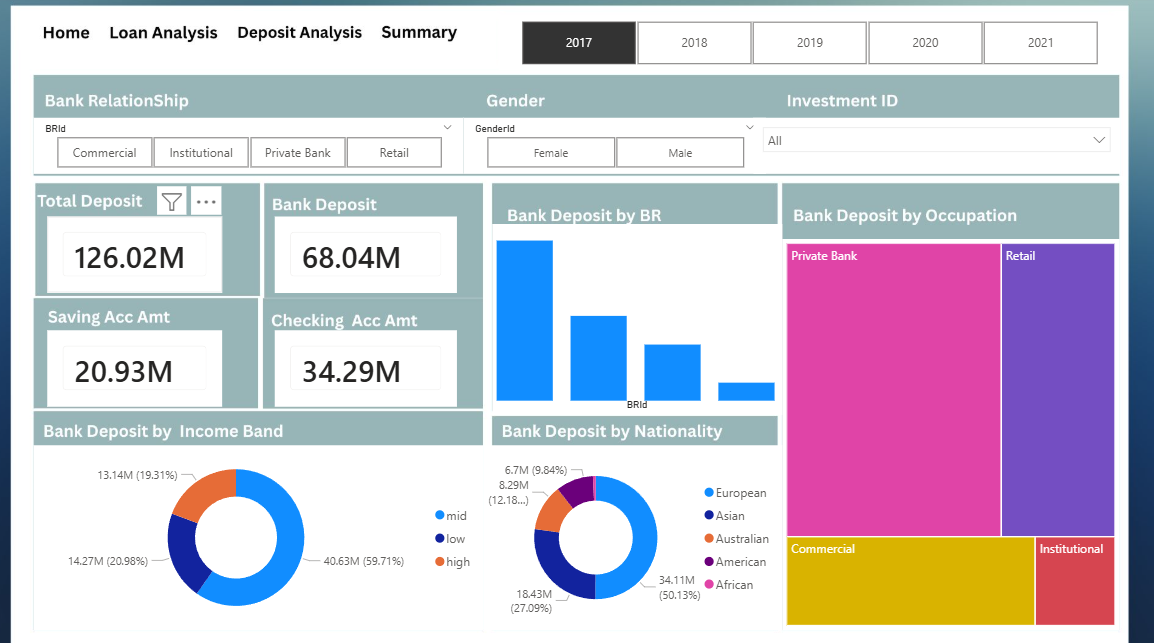

What the dashboard file says about the page in this screenshot:
{"tool":"powerbi","page":{"name":"Deposit Analysis","canvas":[1280,720],"ordinal":2},"visuals":[{"type":"cardVisual","fields":{"Data":["Banking.Total Deposit"]},"box":[61.7,244.3,192.1,83.7],"z":0},{"type":"cardVisual","fields":{"Data":["Sum(Banking.Bank Deposits)"]},"box":[311.5,244.3,200.3,83.7],"z":1000},{"type":"cardVisual","fields":{"Data":["Sum(Banking.Saving Accounts)"]},"box":[61.7,369.1,192.1,83.7],"z":2000},{"type":"cardVisual","fields":{"Data":["Sum(Banking.Checking Accounts)"]},"box":[311.5,369.1,200.3,83.7],"z":3000},{"type":"donutChart","fields":{"Y":["Sum(Banking.Bank Deposits)"],"Category":["Banking.income band"]},"box":[46.7,495.4,494,203.1],"z":4000},{"type":"donutChart","fields":{"Y":["Sum(Banking.Bank Deposits)"],"Category":["Banking.Nationality"]},"box":[540.7,495.4,328,203.1],"z":5000},{"type":"clusteredColumnChart","fields":{"Y":["Sum(Banking.Bank Deposits)"],"Category":["Banking.BRId"]},"box":[550.3,252.5,318.4,209.9],"z":6000},{"type":"treemap","fields":{"Group":["Banking.BRId","Banking.Occupation"],"Values":["Sum(Banking.Bank Deposits)"]},"box":[868.6,269,370.5,429.5],"z":7000},{"type":"slicer","fields":{"Values":["Banking.BRId"]},"box":[46.7,135.8,472,61.7],"z":8000},{"type":"slicer","fields":{"Values":["Banking.GenderId"]},"box":[518.7,135.8,332.1,61.7],"z":9000},{"type":"slicer","fields":{"Values":["Banking.IAId"]},"box":[837.1,135.8,402.1,61.7],"z":10000},{"type":"slicer","fields":{"Values":["Banking.year of joining"]},"box":[557.1,23.3,682,60.4],"z":11000}]}

Visuals, with their boxes in screenshot pixels (x1, y1, x2, y2), scaled from the page's 1280x720 canvas onto the 1154x643 screenshot:
cardVisual - Banking.Total Deposit: <region>56, 218, 229, 293</region>
cardVisual - Sum(Banking.Bank Deposits): <region>281, 218, 461, 293</region>
cardVisual - Sum(Banking.Saving Accounts): <region>56, 330, 229, 404</region>
cardVisual - Sum(Banking.Checking Accounts): <region>281, 330, 461, 404</region>
donutChart - Sum(Banking.Bank Deposits) x Banking.income band: <region>42, 442, 487, 624</region>
donutChart - Sum(Banking.Bank Deposits) x Banking.Nationality: <region>487, 442, 783, 624</region>
clusteredColumnChart - Sum(Banking.Bank Deposits) x Banking.BRId: <region>496, 225, 783, 413</region>
treemap - Banking.BRId x Banking.Occupation: <region>783, 240, 1117, 624</region>
slicer - Banking.BRId: <region>42, 121, 468, 176</region>
slicer - Banking.GenderId: <region>468, 121, 767, 176</region>
slicer - Banking.IAId: <region>755, 121, 1117, 176</region>
slicer - Banking.year of joining: <region>502, 21, 1117, 75</region>
